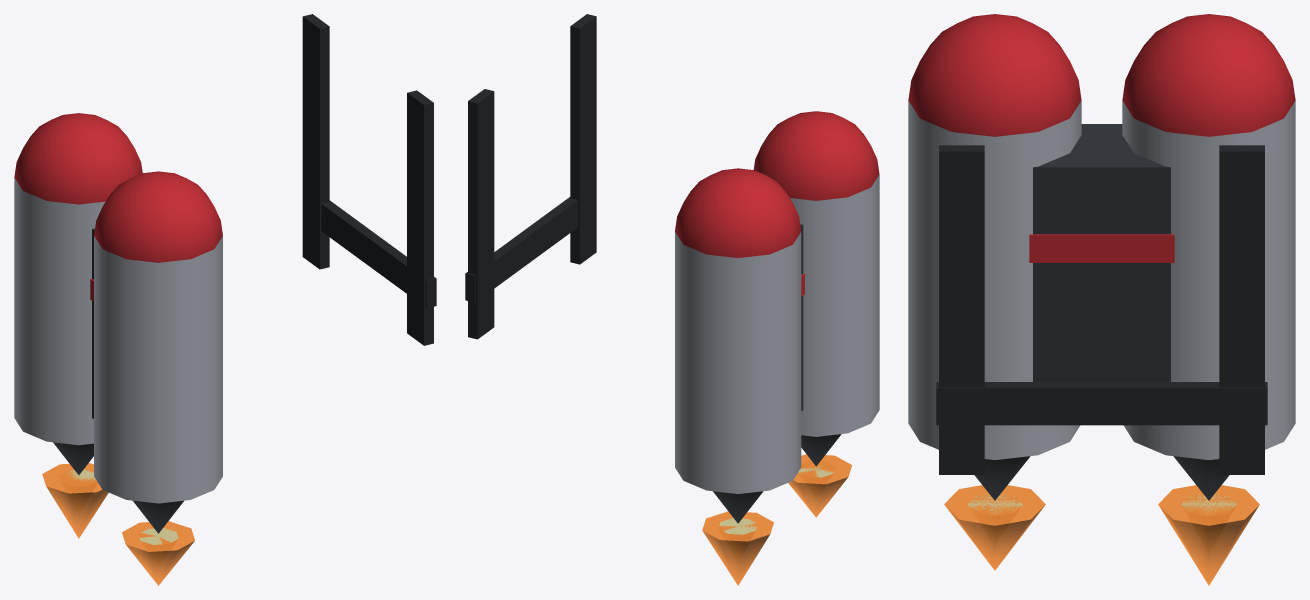
File: back_jetpack.glb
3 views of the same model, side by side, from view 1: azimuth 30°, elevation 25°; view 2: azimuth 150°, elevation 25°; view 3: azimuth 270°, elevation 25° (orthographic). The views are drawn at different scales.
Visible parts, largest first — view 1: Back; view 2: Back; view 3: Back.
Part boxes in pixels (x1=…): Back: x1=14, y1=14, x2=436, y2=585; Back: x1=465, y1=14, x2=879, y2=585; Back: x1=908, y1=14, x2=1295, y2=585.
Size of the model in its own units: 0.57 by 0.781 by 0.456.
